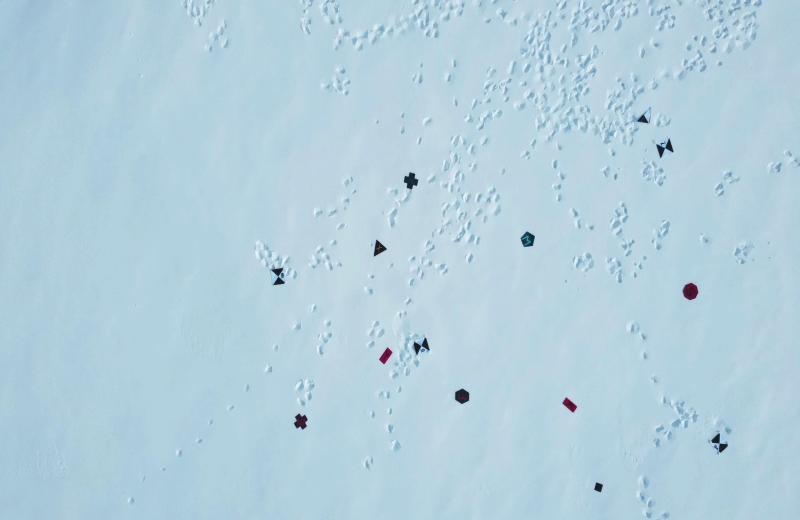Cross: (292, 412, 310, 432), (403, 172, 419, 192)
Hexagon: (454, 387, 472, 406)
Octagon: (682, 281, 700, 303)
Pentagon: (520, 231, 536, 249)
Rectangle: (561, 395, 579, 416), (378, 346, 396, 366)
Square: (593, 480, 604, 495)
Triangle: (372, 239, 390, 258)
